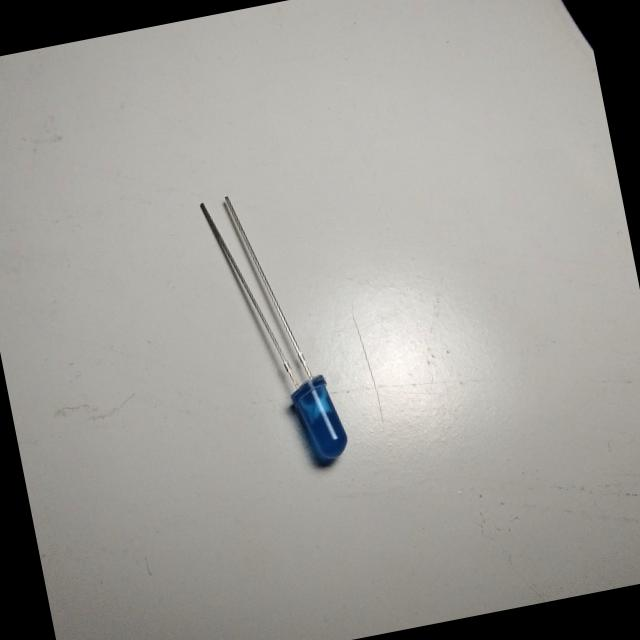blue_led: (286, 370, 352, 470)
